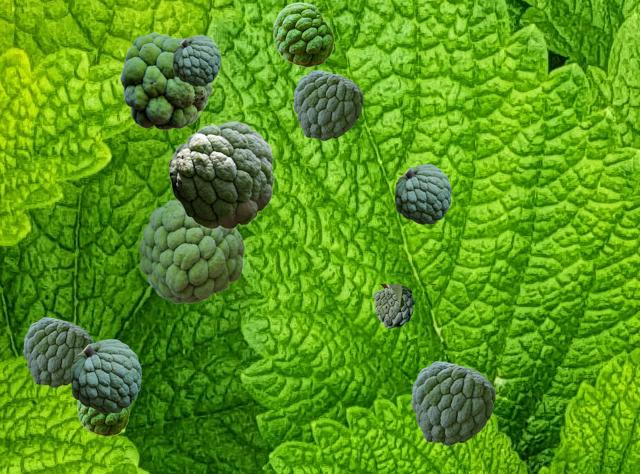atis: (168, 121, 273, 228), (138, 200, 243, 302), (120, 32, 211, 129), (411, 361, 494, 444), (71, 339, 140, 412), (23, 317, 92, 386), (293, 70, 362, 139), (273, 2, 333, 66), (395, 164, 450, 223), (373, 284, 435, 327), (173, 35, 219, 85), (77, 401, 128, 435)
